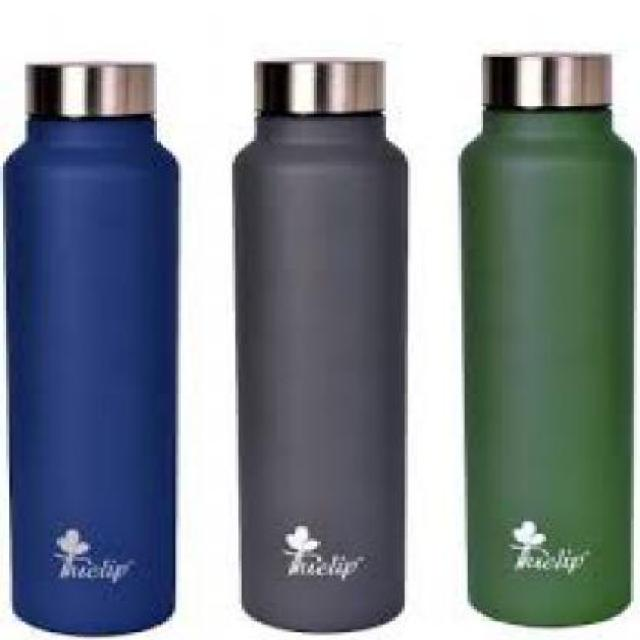Drinking: (226, 38, 439, 632), (1, 46, 204, 625)
